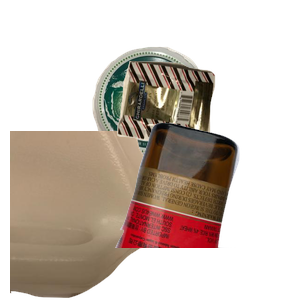glass: (113, 120, 300, 300)
metal: (90, 44, 289, 195)
plastic: (10, 131, 196, 300)
trash: (115, 58, 300, 200)
